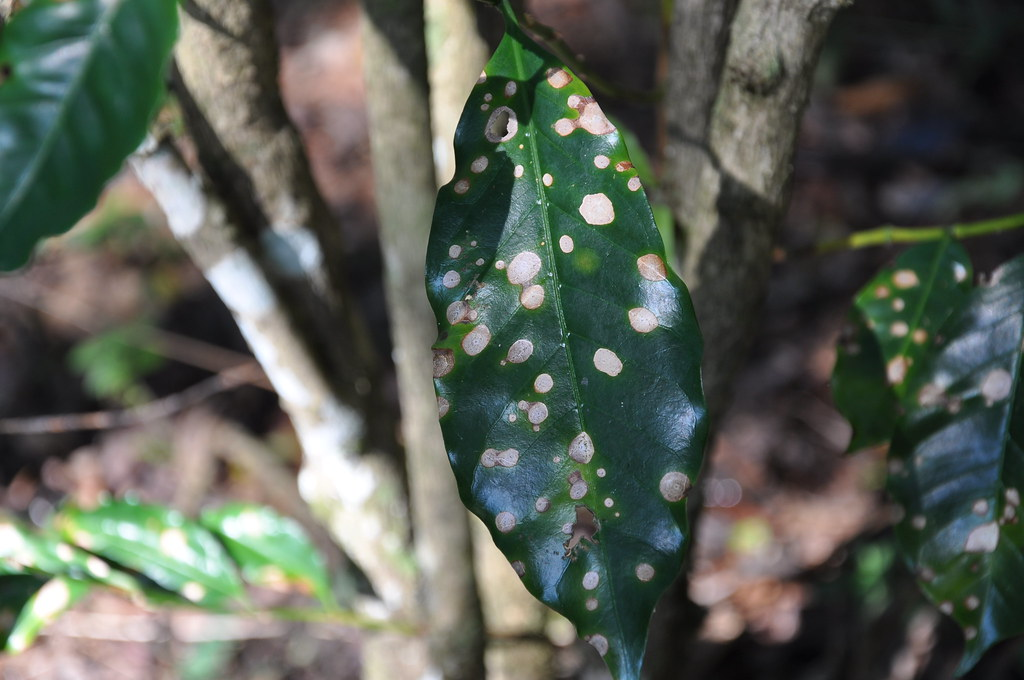ojo de gallo: (462, 82, 701, 633)
